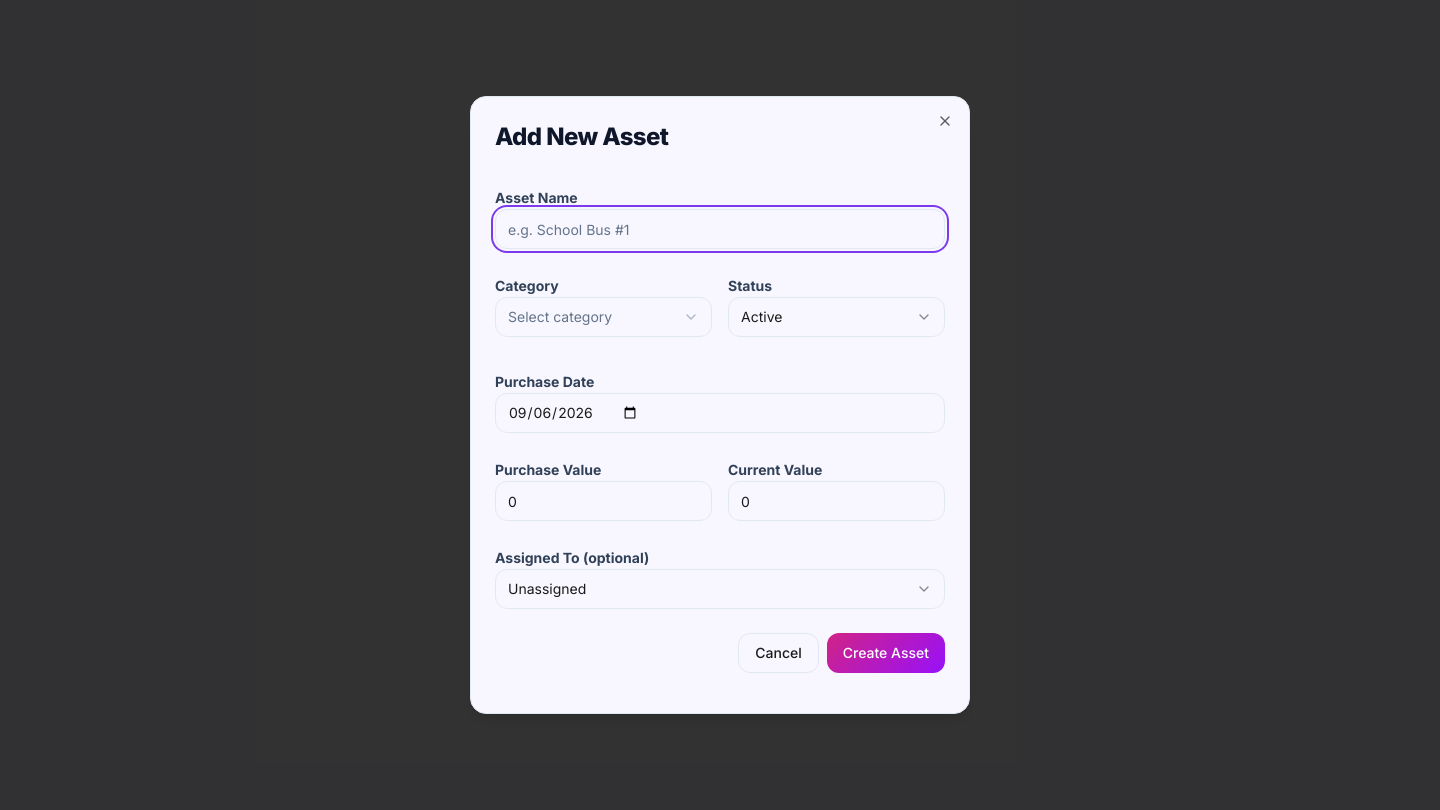
Test: AssetDialog › fetches only active staff into the assignment dropdown when opened
The image size is (1440, 810).
Click the dropdown named "assigned to" at (547, 588), box x1=495 y1=569 x2=945 y2=609
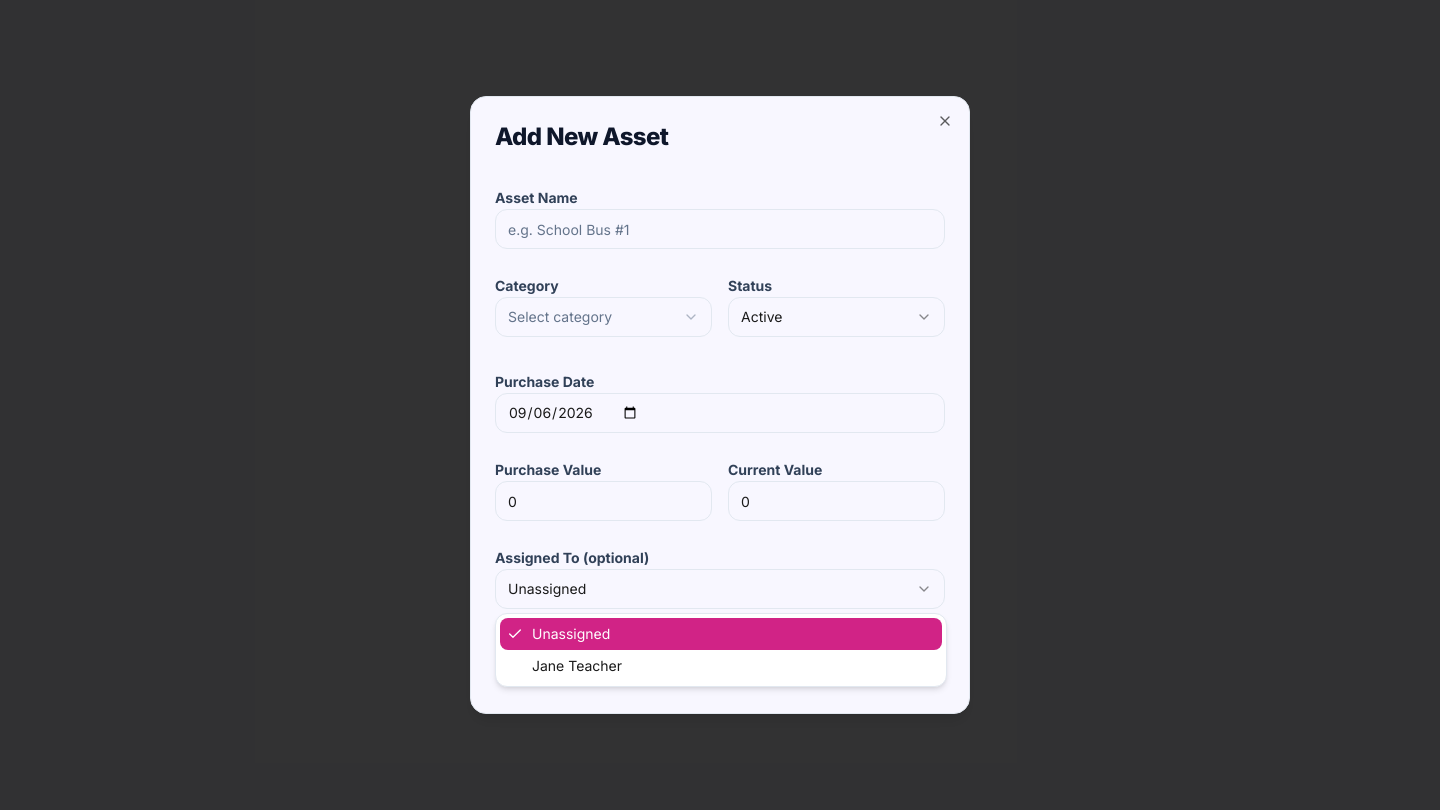
Now the option "Jane Teacher" is shown, box x1=532 y1=657 x2=622 y2=674
